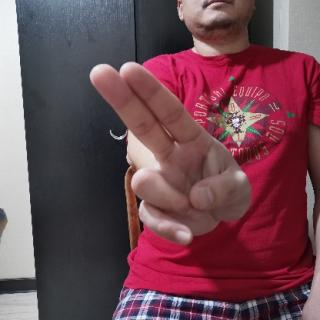TA: (86, 58, 259, 248)
